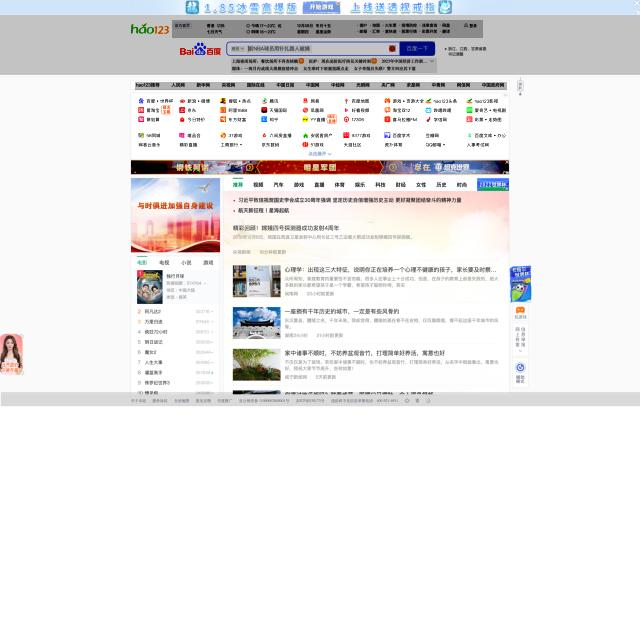CheckBox: (400, 41, 435, 56)
CheckedTextView: (226, 41, 436, 56)
ImageView: (131, 178, 220, 252), (130, 159, 510, 175)
ProgressBar: (1, 392, 640, 407), (0, 0, 640, 14)
RadioButton: (389, 45, 396, 52)
alert: (231, 46, 245, 52)
bag: (0, 15, 640, 75)
date picker: (178, 40, 222, 58), (130, 22, 170, 38)
decoration: (135, 96, 508, 151), (172, 20, 483, 38), (231, 58, 437, 73), (135, 82, 507, 90)
footer: (246, 45, 312, 53)
icon: (224, 176, 476, 191)
